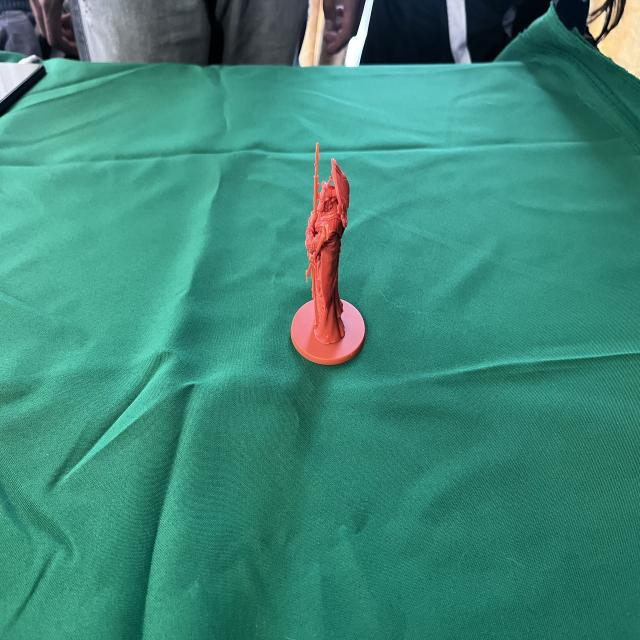amon: (287, 135, 369, 368)
